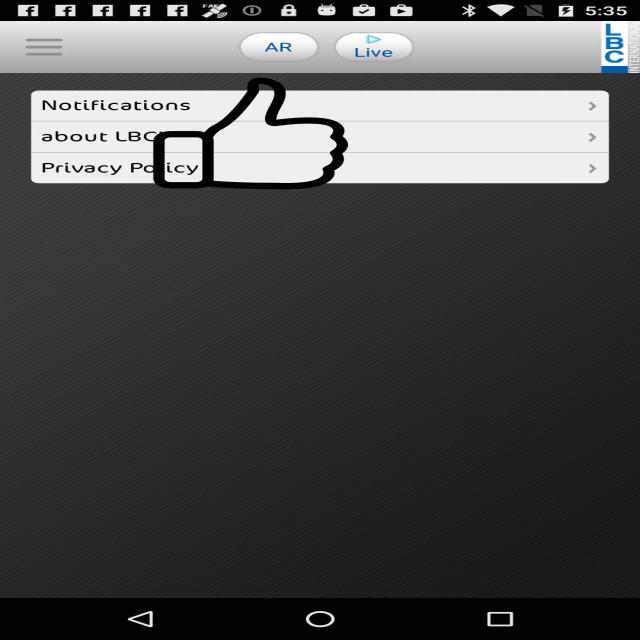privacy zuckering: (150, 78, 351, 189)
